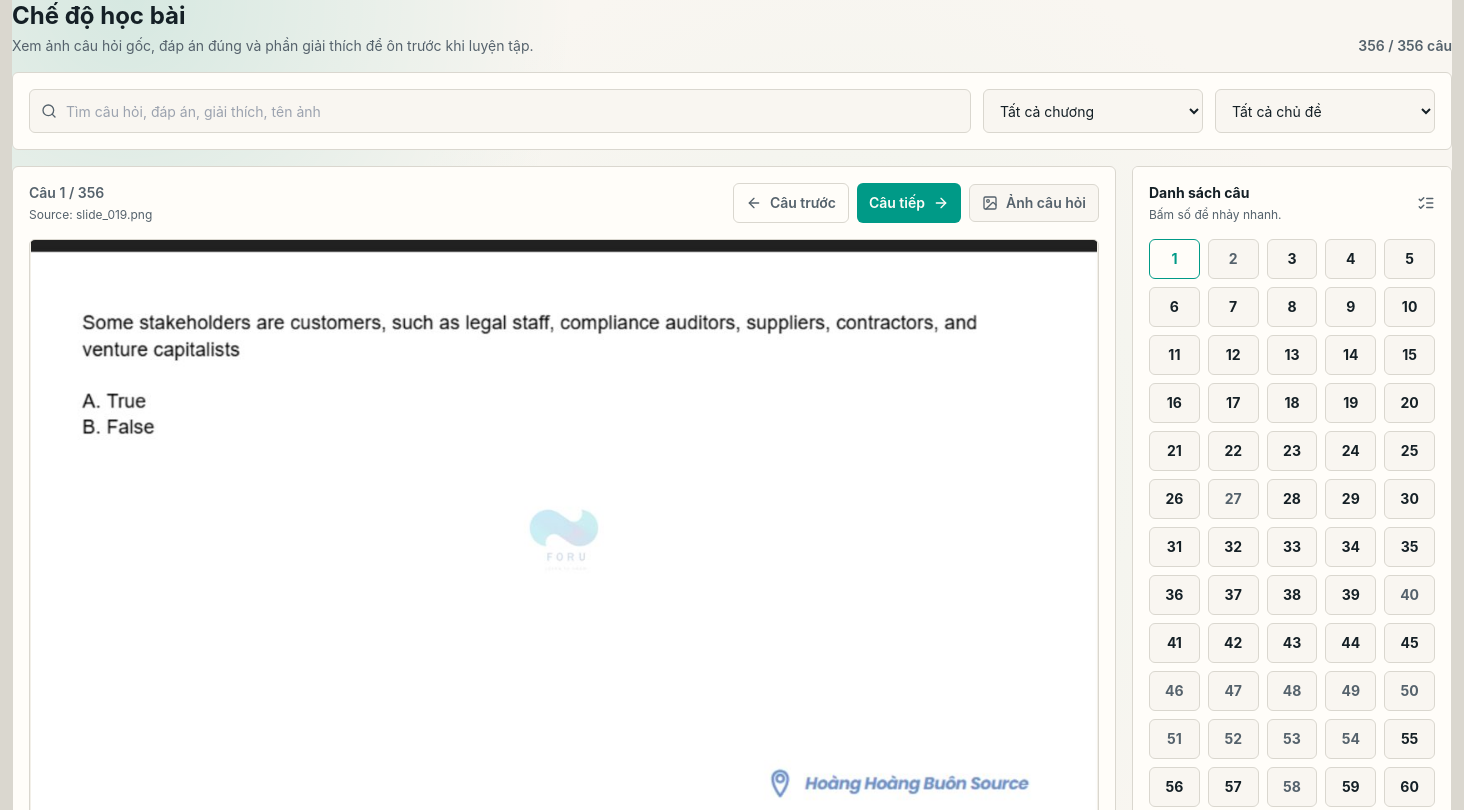
StudyPage › filters to a question with a detailed explanation
The width and height of the screenshot is (1464, 810).
Type "product champions" into the field with placeholder "Tìm câu hỏi, đáp án, giải thích, tên ảnh".
click(500, 111); type("product champions")  # box [29,89,971,133]
(page scrolled)
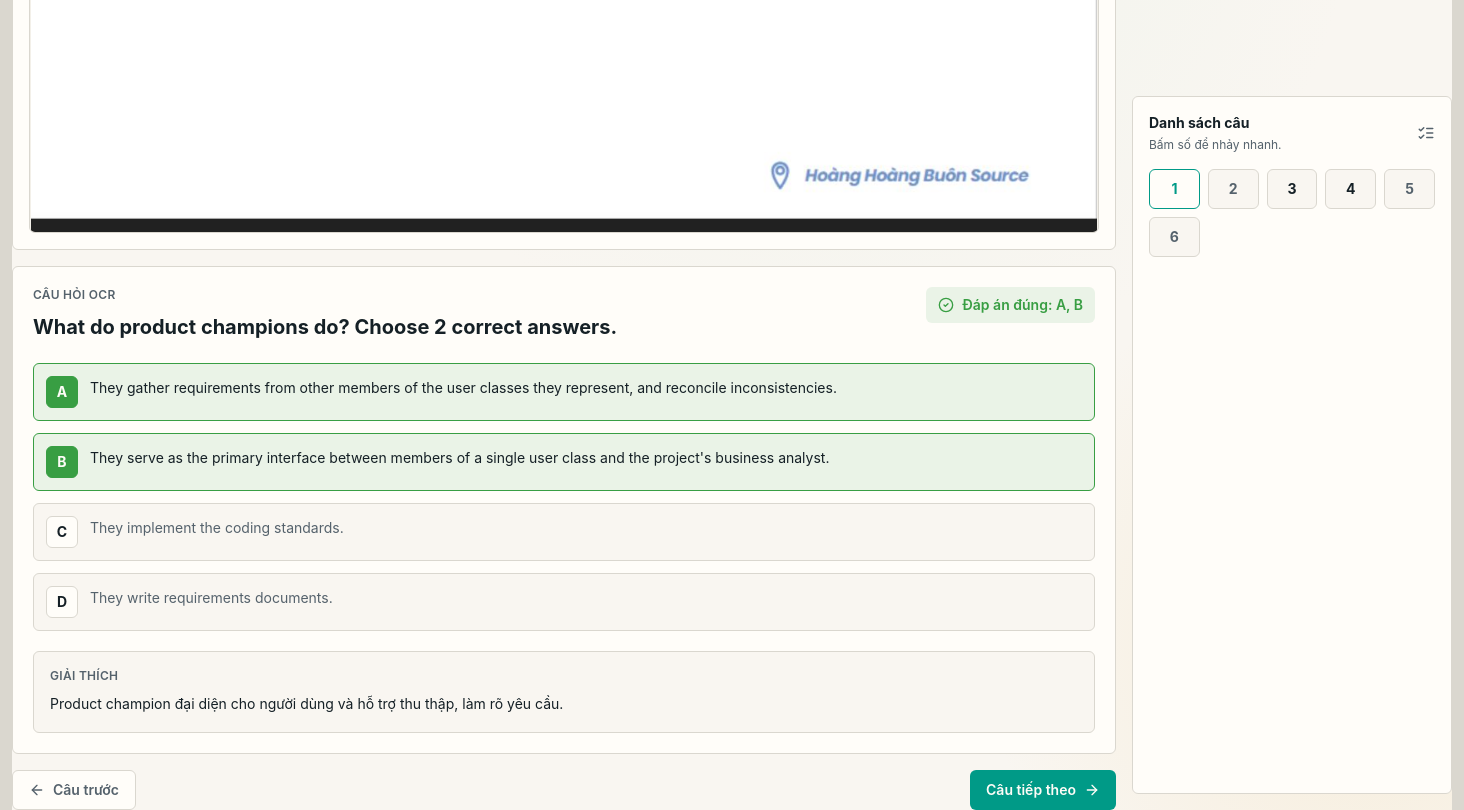
Result: the heading "What do product champions do? Choose 2 correct answers." is shown at [33,311,617,343]
Result: the text "Đáp án đúng: A, B" is shown at [926,287,1095,323]
Result: the text "Product champion đại diện cho người dùng" is shown at [50,695,563,712]
